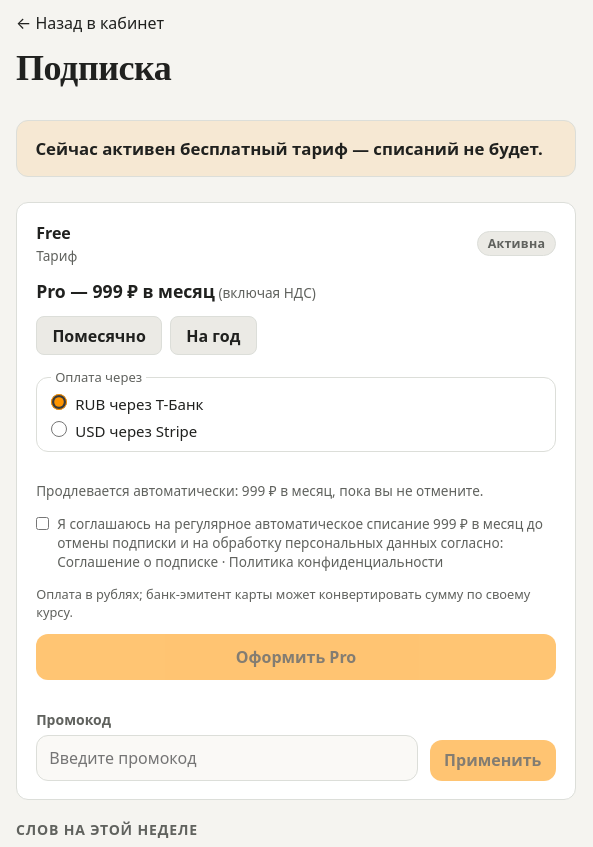
Test: BillingDashboard › applies promo codes for free users
Expected: the heading "Подписка" is shown, [16,48,171,88]
Type "WAI-TEST-30" into the field with placeholder "Введите промокод" at (227, 758), box [36,735,418,781]
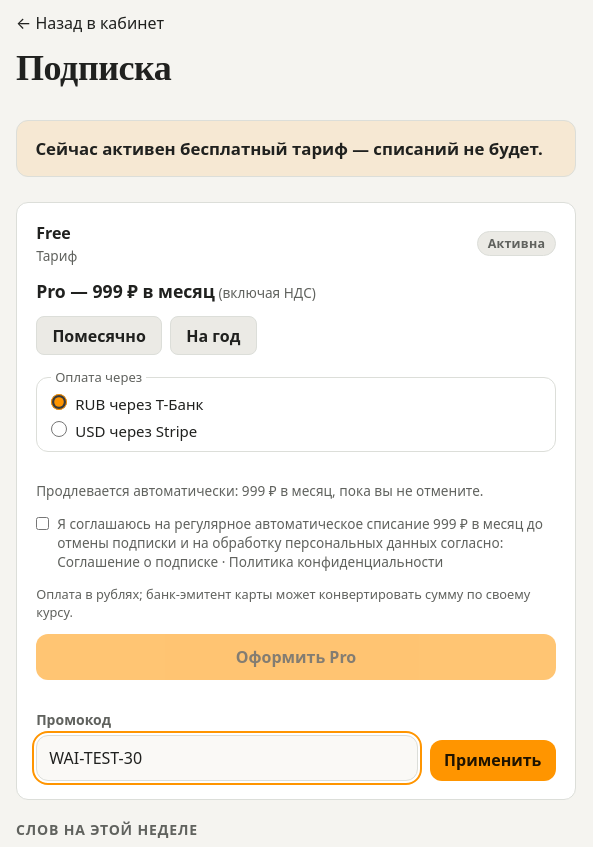
Click the button "Применить" at (493, 760), box [430,740,556,781]
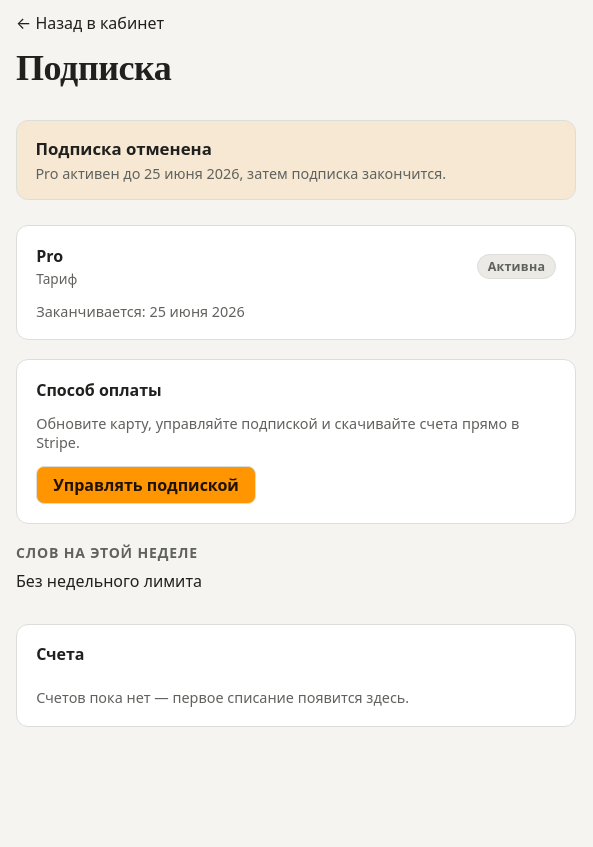
Expected: the text "Pro активен до 25 июня 2026, затем подписка закончится." is shown, [35,164,446,183]
